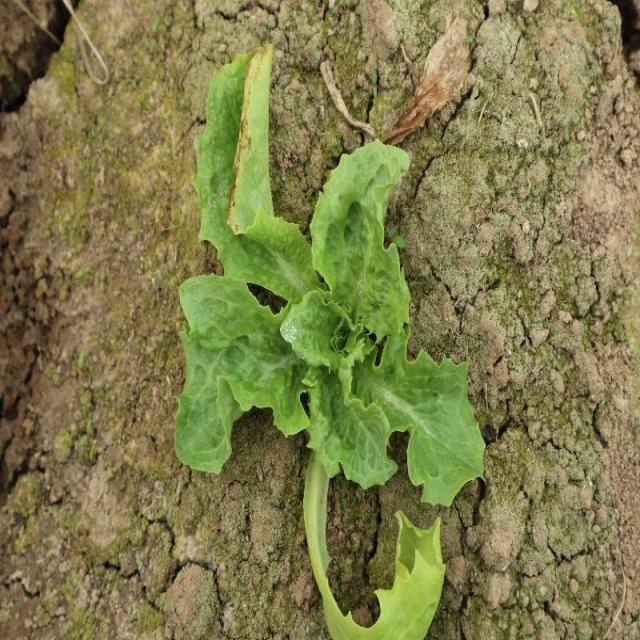crop: (172, 47, 487, 640)
